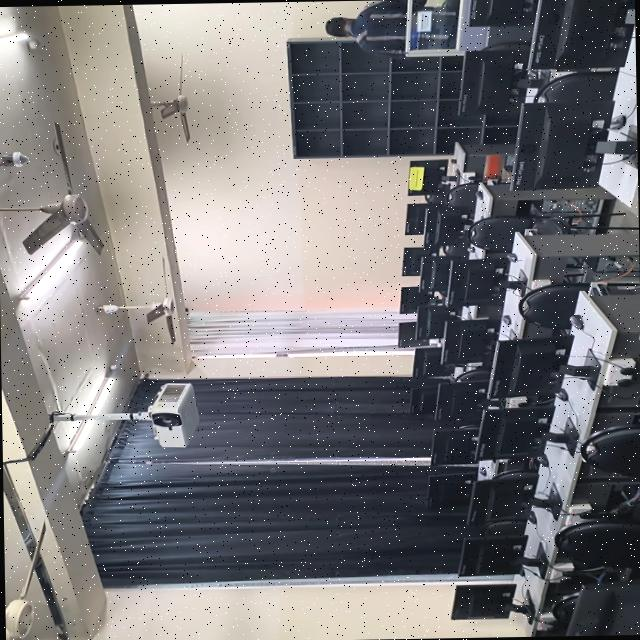Chair: (555, 519, 640, 573), (466, 214, 575, 251), (581, 424, 640, 476), (535, 70, 616, 102), (446, 181, 483, 207), (552, 591, 578, 624), (483, 39, 529, 52), (455, 367, 489, 381)
Cpu: (535, 198, 601, 213), (599, 254, 639, 277), (575, 215, 597, 225)
Light: (20, 239, 81, 304), (88, 375, 114, 411), (67, 421, 92, 451), (0, 30, 39, 49)
Monitor: (511, 99, 613, 189), (529, 0, 635, 69), (489, 334, 571, 397), (564, 577, 640, 636), (475, 402, 553, 459), (467, 469, 537, 523), (448, 255, 509, 304), (458, 534, 526, 574), (443, 317, 499, 363), (450, 584, 514, 618), (436, 379, 486, 419), (425, 206, 471, 245), (427, 472, 476, 508), (432, 425, 478, 463), (469, 0, 537, 25), (408, 158, 454, 194), (415, 303, 458, 338), (420, 254, 460, 291), (412, 345, 452, 376), (401, 245, 439, 275), (399, 284, 437, 312), (410, 382, 437, 413), (404, 202, 429, 234), (398, 321, 430, 346)
Mouse: (607, 114, 625, 129), (570, 313, 583, 328), (554, 387, 567, 400), (527, 509, 536, 523), (507, 251, 516, 261), (501, 314, 510, 324), (478, 466, 486, 475), (475, 189, 482, 198), (539, 458, 545, 465)
Projector: (147, 382, 199, 446)
